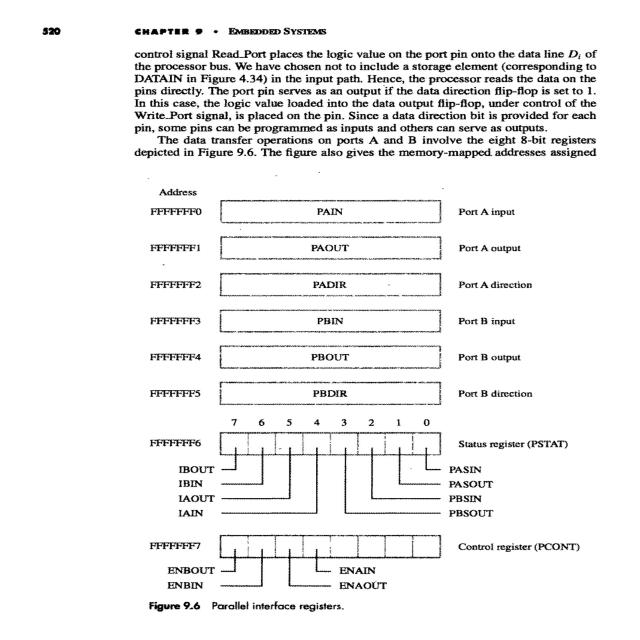diagram: (121, 169, 640, 622)
